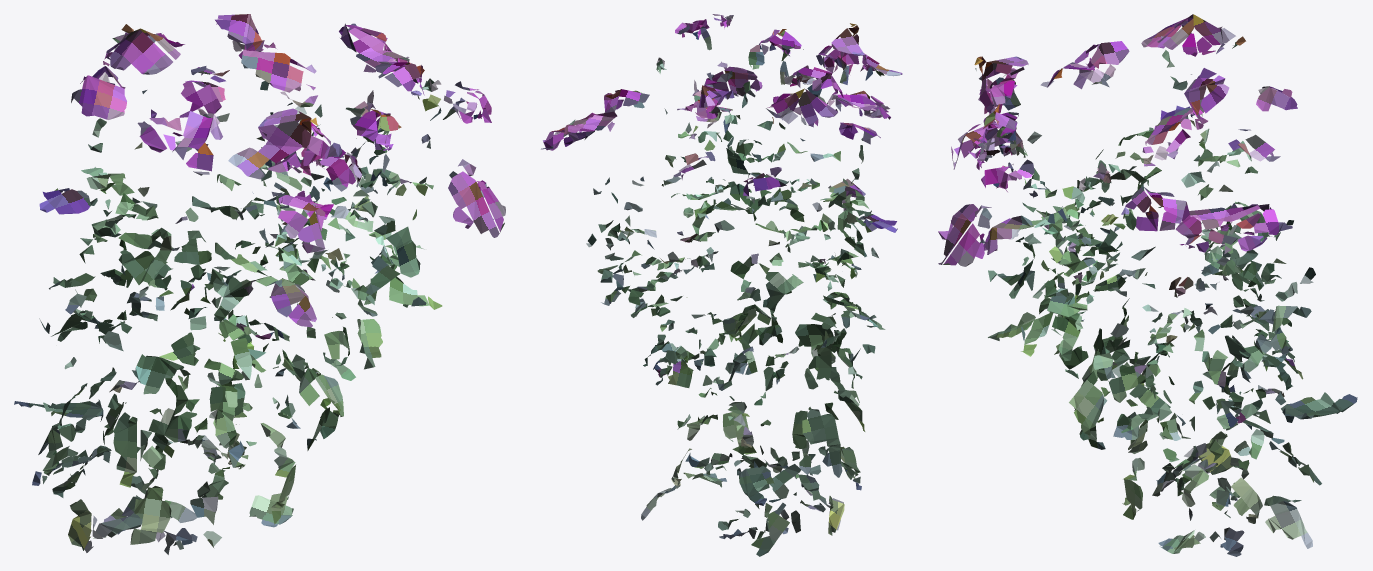
Rendered from echinacea_dis_fbx.fbx.
3 renders of one model, left to right at view 1: azimuth 30°, elevation 25°; view 2: azimuth 150°, elevation 25°; view 3: azimuth 270°, elevation 25°, orthographic. The views are drawn at different scales.
Parts seen in each view (by area): view 1: Model; view 2: Model; view 3: Model.
Boxes of the visible parts, x1=… form: Model: x1=14, y1=14, x2=505, y2=554; Model: x1=541, y1=14, x2=902, y2=556; Model: x1=938, y1=14, x2=1357, y2=556.
Size of the model in its own units: 1.86 by 2.48 by 1.86.
